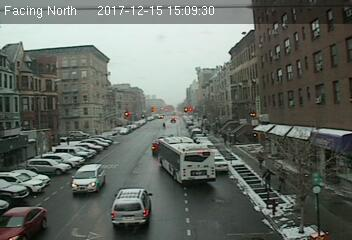bus: (158, 136, 216, 187)
car: (1, 206, 50, 240), (110, 188, 153, 226), (71, 164, 105, 193), (215, 156, 229, 173)
